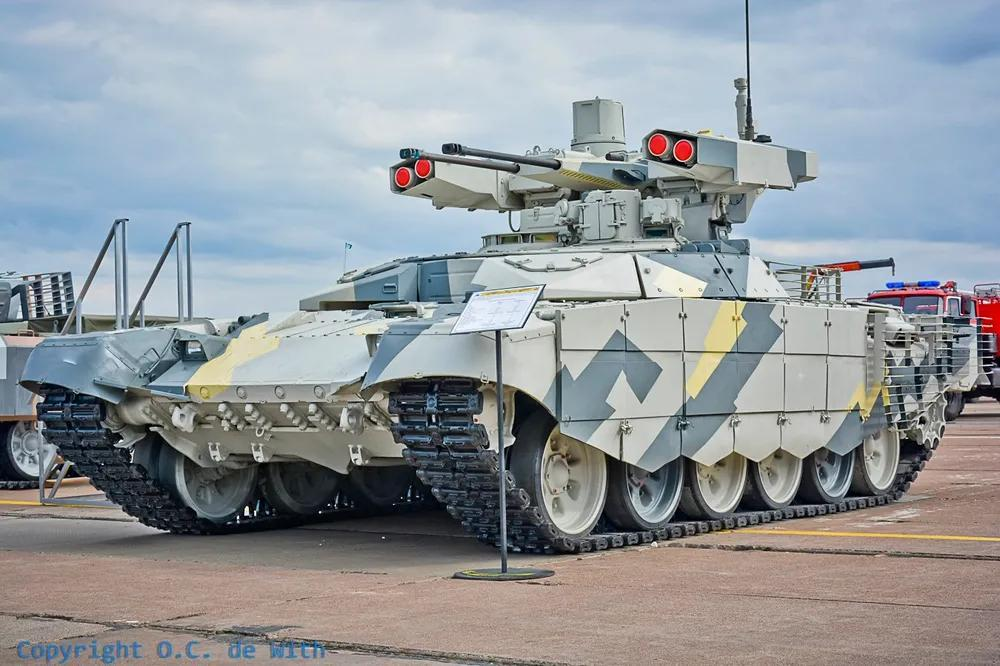MIL_IFV: (18, 81, 964, 562)
